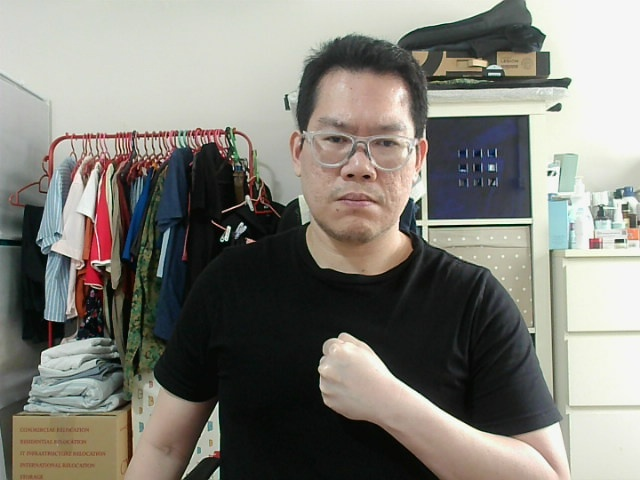sorry: (323, 336, 381, 402)
